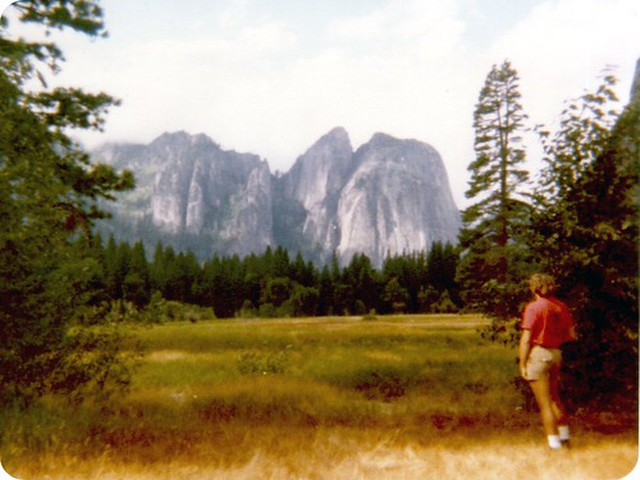Person: (517, 272, 575, 449)
